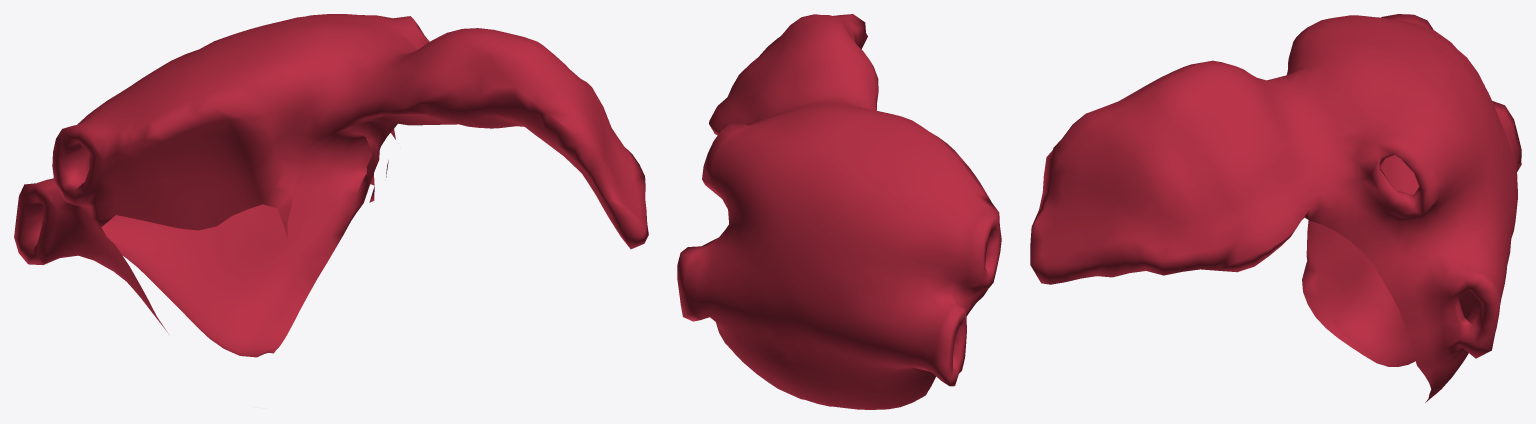
File: left-atrium.glb
3 renders of one model, left to right at view 1: azimuth 30°, elevation 25°; view 2: azimuth 150°, elevation 25°; view 3: azimuth 270°, elevation 25°, orthographic. The views are drawn at different scales.
Parts seen in each view (by area): view 1: Left atrium; view 2: Left atrium; view 3: Left atrium.
Part boxes in pixels (x1=…): Left atrium: x1=14, y1=14, x2=648, y2=357; Left atrium: x1=677, y1=14, x2=1001, y2=409; Left atrium: x1=1030, y1=14, x2=1521, y2=402.
Size of the model in its own units: 0.0894 by 0.0752 by 0.0863.
